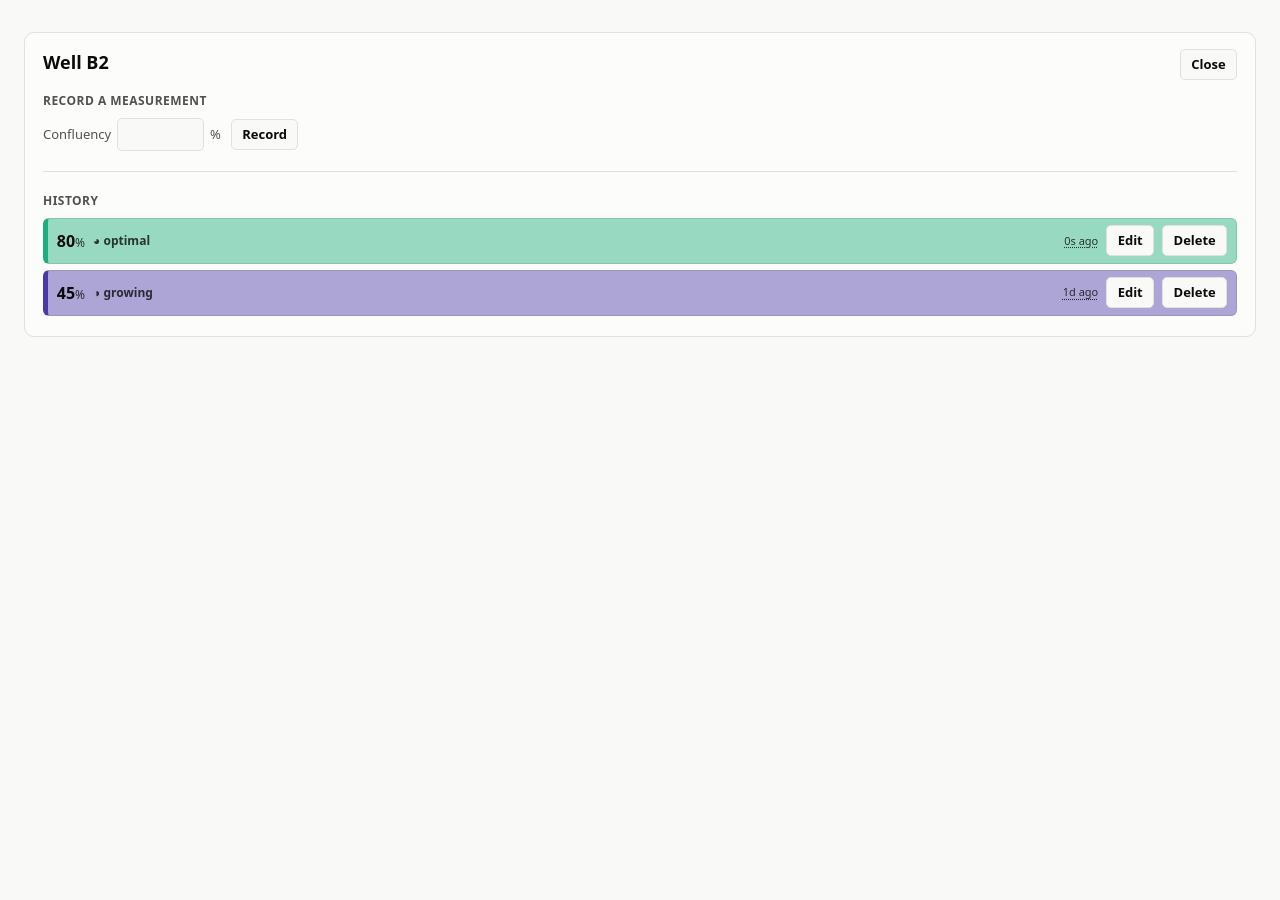
Test: WellPanel — deleting a measurement › takes a 404 as already done rather than as a failure
The image size is (1280, 900).
Expected: the text "80" is shown, [57, 230, 75, 252]
Click the button with aria-label "Delete reading".
click(1195, 241)  # box [1162, 225, 1227, 256]
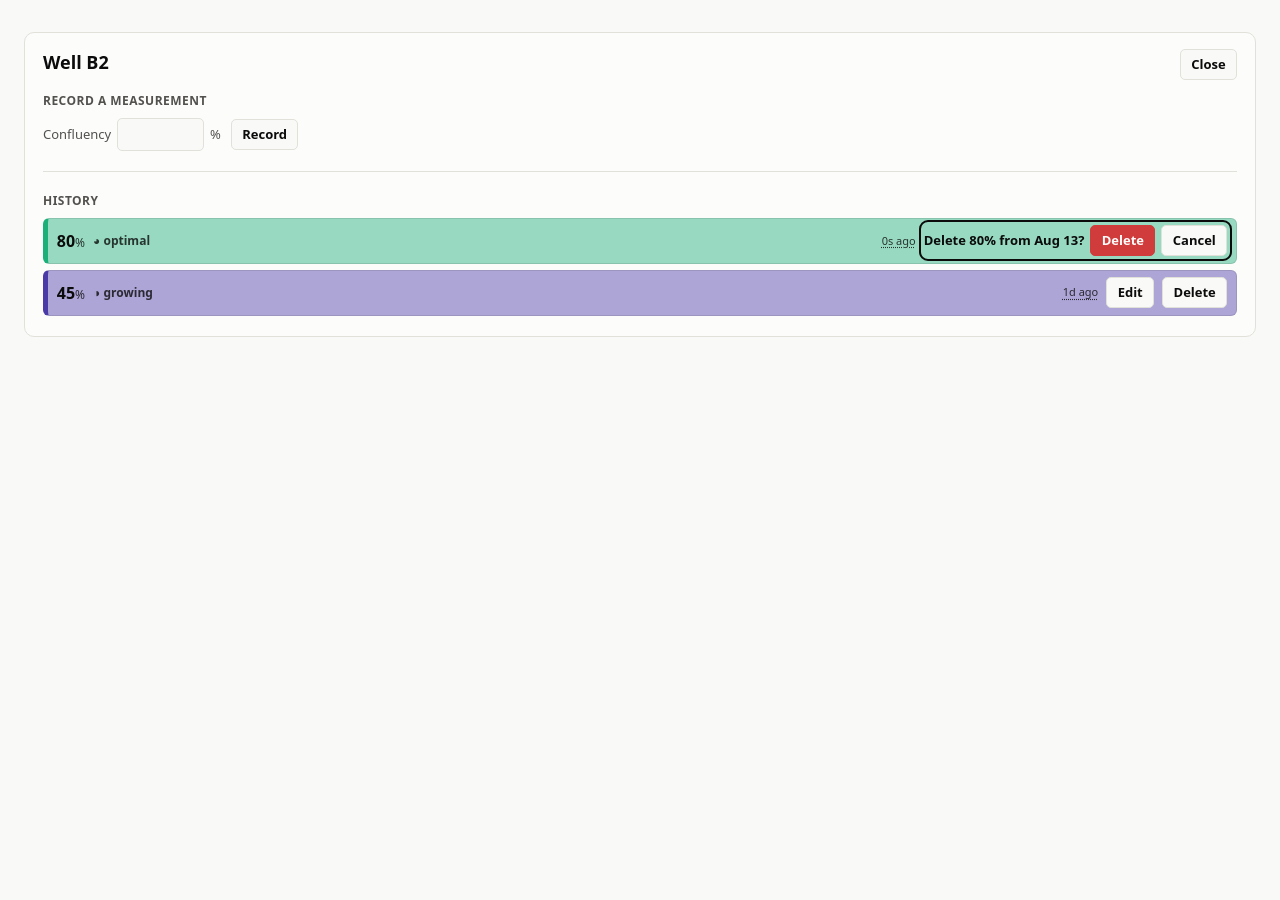
Click the button "Delete" next to "Delete 80% from Aug 13?".
click(1123, 241)  # box [1090, 225, 1155, 256]
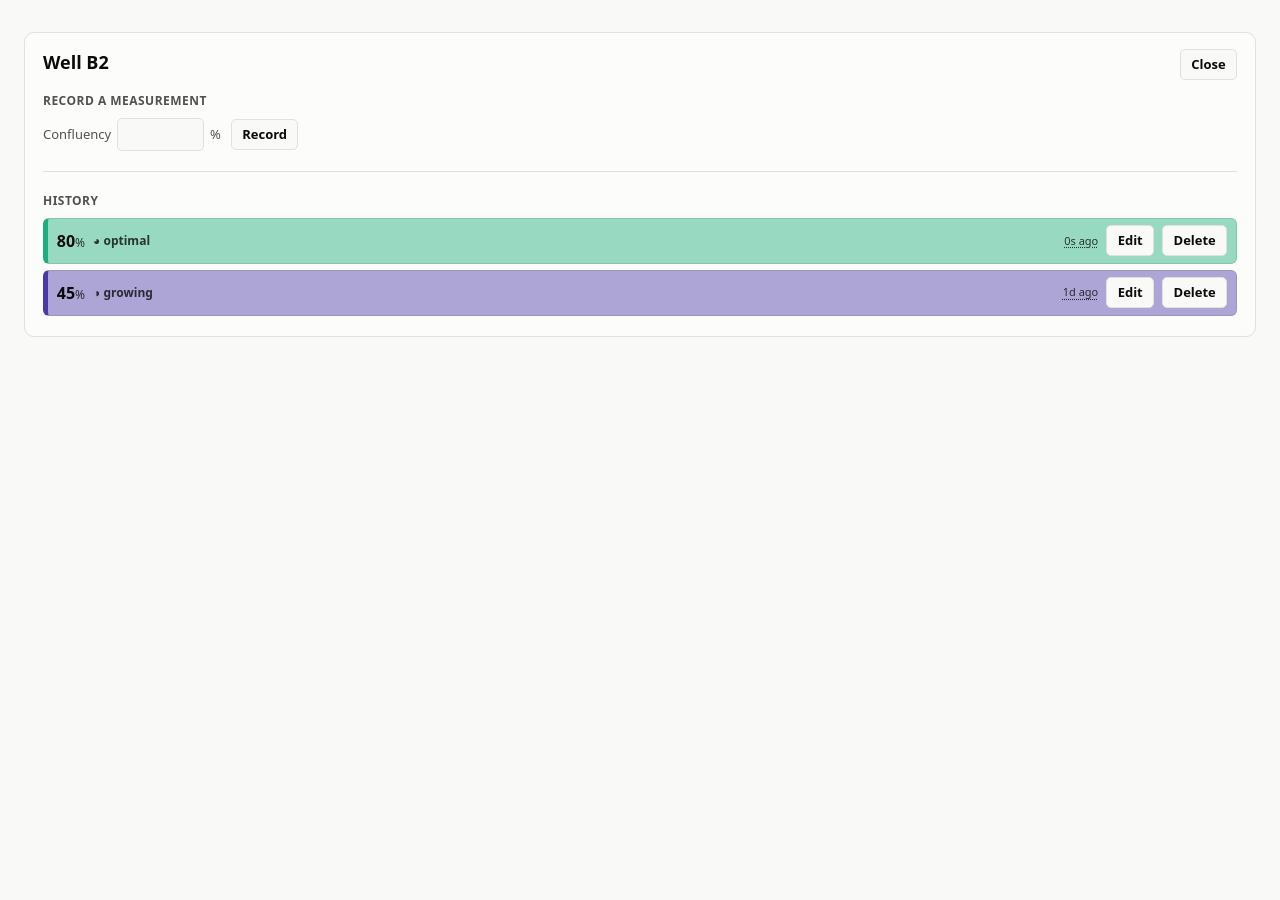
Expected: the dialog is gone
